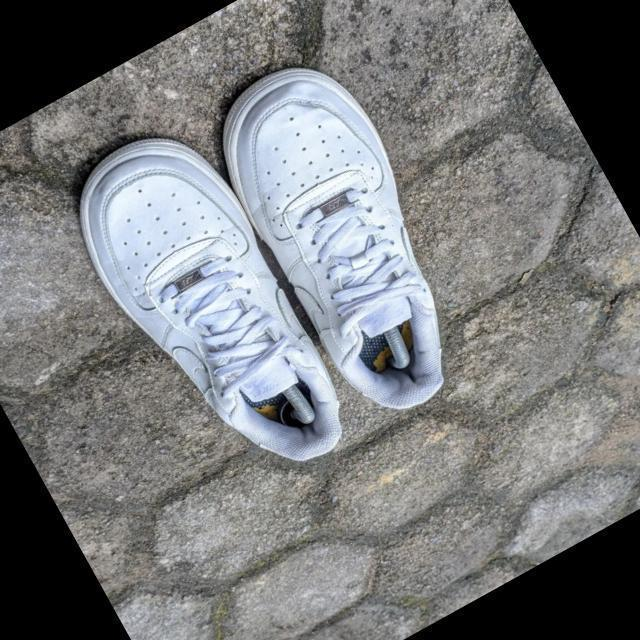nike fake air force: (42, 103, 368, 510), (185, 39, 502, 435)
